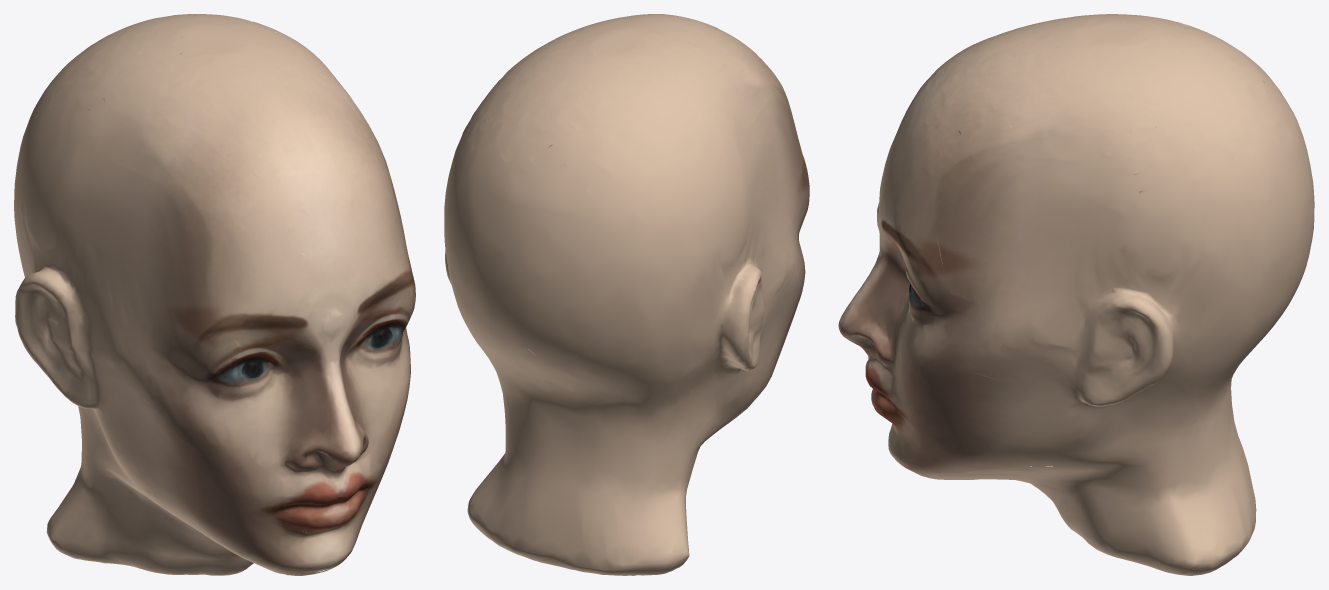
Rendered from head_f.glb.
The picture shows the model from 3 angles, left to right: view 1: azimuth 30°, elevation 25°; view 2: azimuth 150°, elevation 25°; view 3: azimuth 270°, elevation 25°; orthographic projection. The views are drawn at different scales.
Parts seen in each view (by area): view 1: head; view 2: head; view 3: head.
Boxes of the visible parts, bbox=[...] form: head: bbox=[14, 14, 415, 575]; head: bbox=[444, 14, 809, 575]; head: bbox=[838, 14, 1314, 575].
Size of the model in its own units: 0.1007 by 0.1521 by 0.1323.
1 material, 1 textured.
